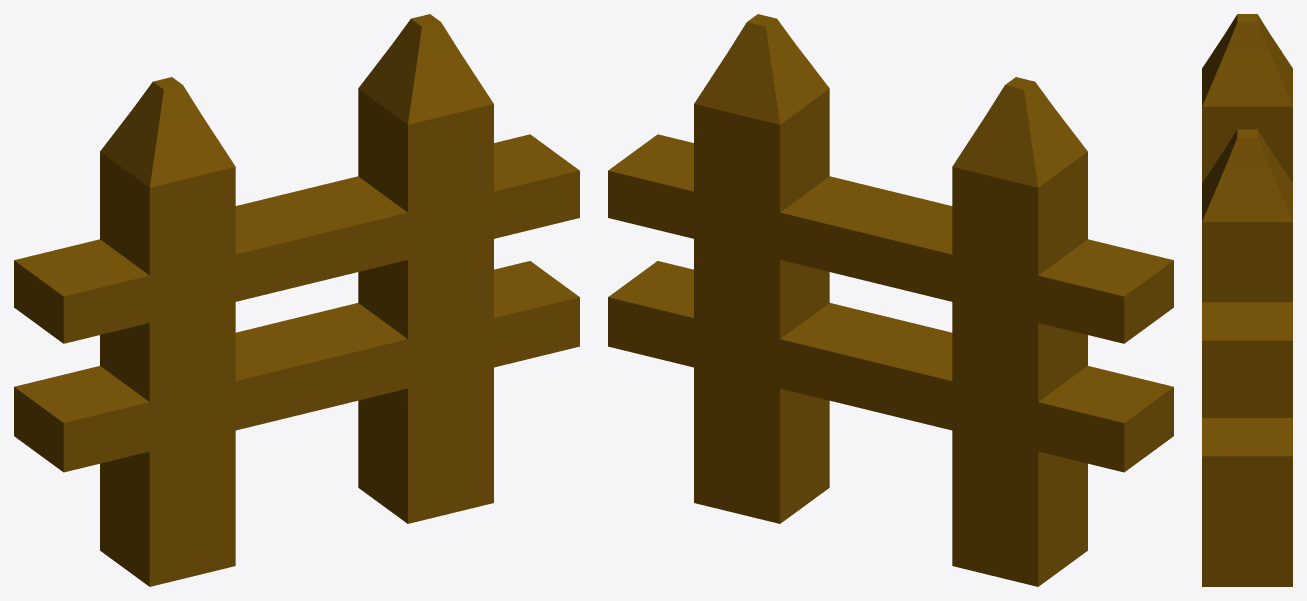
The model's file is FENCE_MODEL.fbx.
The picture shows the model from 3 angles, left to right: view 1: azimuth 30°, elevation 25°; view 2: azimuth 150°, elevation 25°; view 3: azimuth 270°, elevation 25°; orthographic projection. The views are drawn at different scales.
Parts seen in each view (by area): view 1: Picket_Fence; view 2: Picket_Fence; view 3: Picket_Fence.
Part boxes in pixels (x1,y1,x2,y2): Picket_Fence: (14,14,579,586); Picket_Fence: (608,14,1173,586); Picket_Fence: (1202,14,1292,586).
Size of the model in its own units: 12 by 10.55 by 2.
